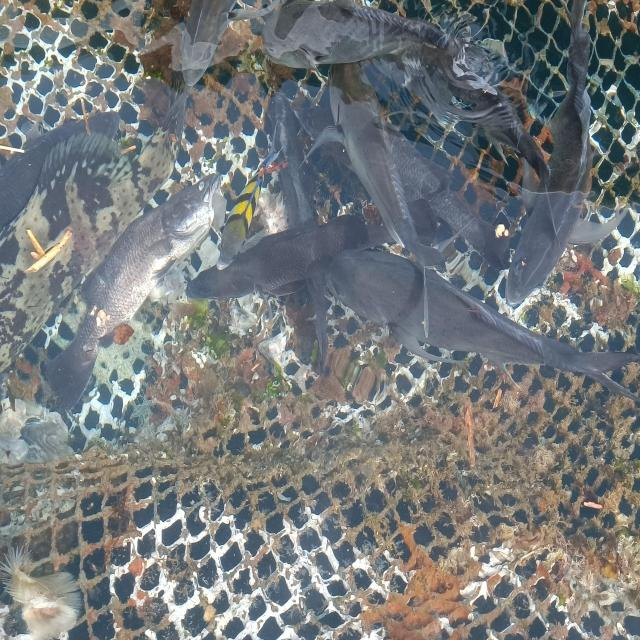ikan: (0, 76, 192, 375), (258, 0, 551, 186), (322, 245, 639, 406), (38, 170, 225, 419), (501, 0, 628, 309)
